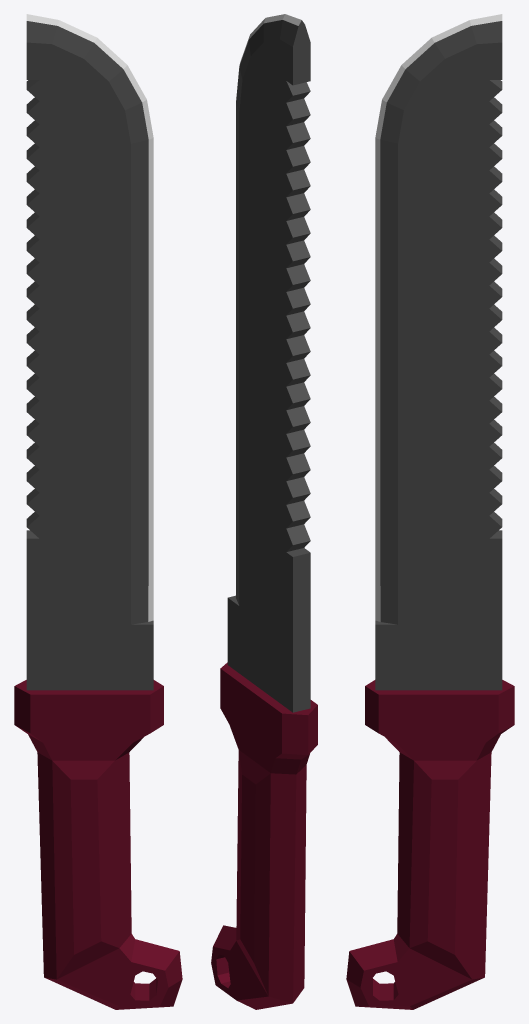
File: Machete.glb
The picture shows the model from 3 angles, left to right: view 1: azimuth 90°, elevation 25°; view 2: azimuth 210°, elevation 25°; view 3: azimuth 270°, elevation 25°; orthographic projection. The views are drawn at different scales.
Visible parts, largest first — view 1: Machete; view 2: Machete; view 3: Machete.
Part boxes in pixels (x1,y1,x2,y2): Machete: (14, 14, 182, 1009); Machete: (211, 14, 317, 1009); Machete: (346, 14, 514, 1009).
Size of the model in its own units: 0.0248 by 0.5187 by 0.0794.
1 material, 1 textured.
